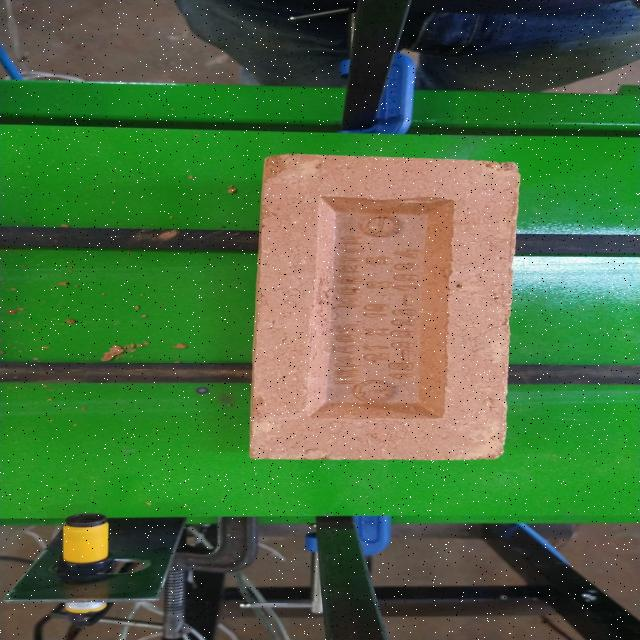bricks: (252, 156, 524, 460)
